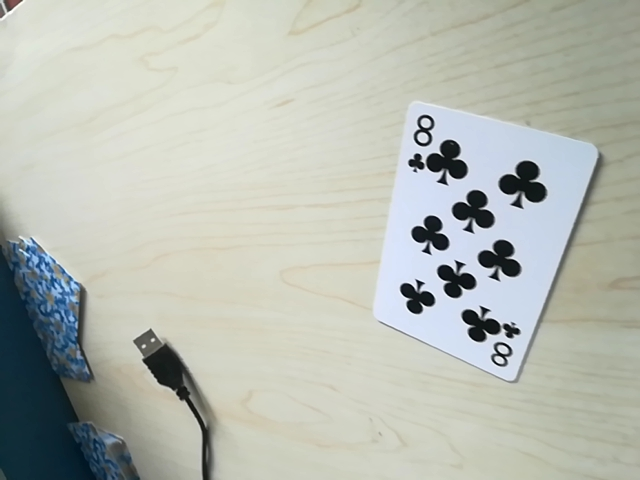mh 8: (401, 108, 448, 171), (475, 331, 521, 374)
